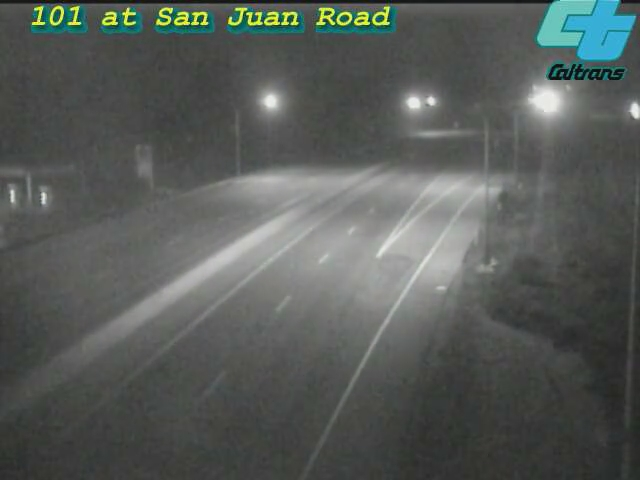vehicle: (524, 77, 574, 127), (610, 86, 640, 136)
